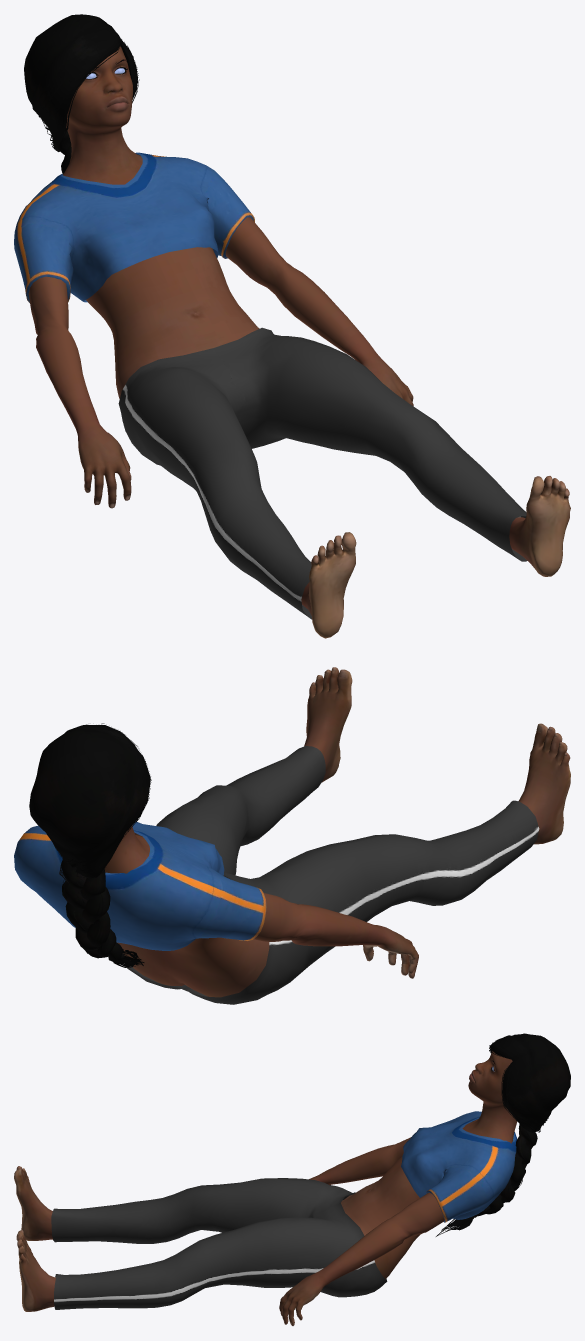
File: female.glb
The picture shows the model from 3 angles, top to bottom: view 1: azimuth 30°, elevation 25°; view 2: azimuth 150°, elevation 25°; view 3: azimuth 270°, elevation 25°; orthographic projection. The views are drawn at different scales.
Parts seen in each view (by area): view 1: lie_imani_body.female_sportsuit01, lie_imani_body, lie_imani_body.braid01; view 2: lie_imani_body.female_sportsuit01, lie_imani_body, lie_imani_body.braid01; view 3: lie_imani_body.female_sportsuit01, lie_imani_body, lie_imani_body.braid01.
Boxes of the visible parts, x1,y1,x2,y2 form: lie_imani_body.female_sportsuit01: (14, 152, 527, 619); lie_imani_body: (28, 46, 570, 638); lie_imani_body.braid01: (24, 14, 139, 173); lie_imani_body.female_sportsuit01: (14, 746, 539, 1004); lie_imani_body: (104, 667, 570, 997); lie_imani_body.braid01: (29, 723, 151, 967); lie_imani_body.female_sportsuit01: (51, 1111, 516, 1309); lie_imani_body: (14, 1051, 517, 1325); lie_imani_body.braid01: (436, 1033, 570, 1236).
Bounding box in the file's own units: 0.6337 × 0.6315 × 1.29.
Materials: 7 (7 with a texture image).
